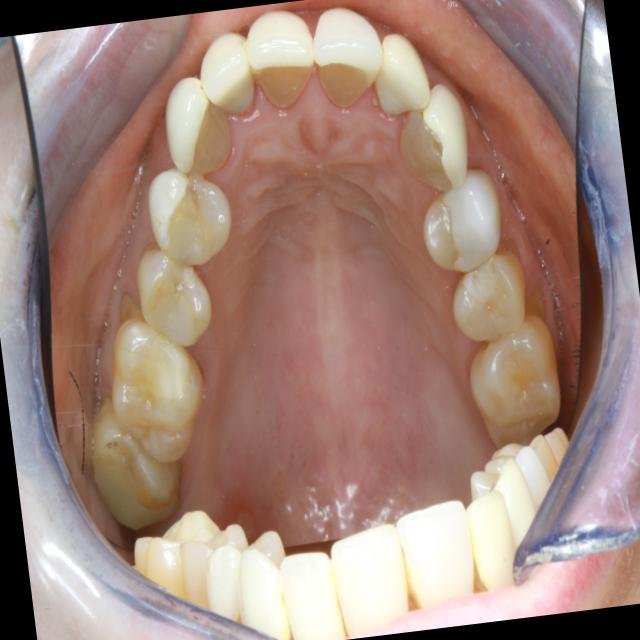tooth: (98, 307, 219, 478), (73, 385, 191, 546), (451, 302, 573, 457), (135, 149, 242, 275), (122, 232, 223, 360), (384, 68, 479, 204), (408, 163, 513, 281), (149, 67, 241, 187), (306, 0, 392, 121), (443, 239, 536, 349), (241, 0, 325, 120), (365, 19, 436, 128), (190, 23, 265, 123)
